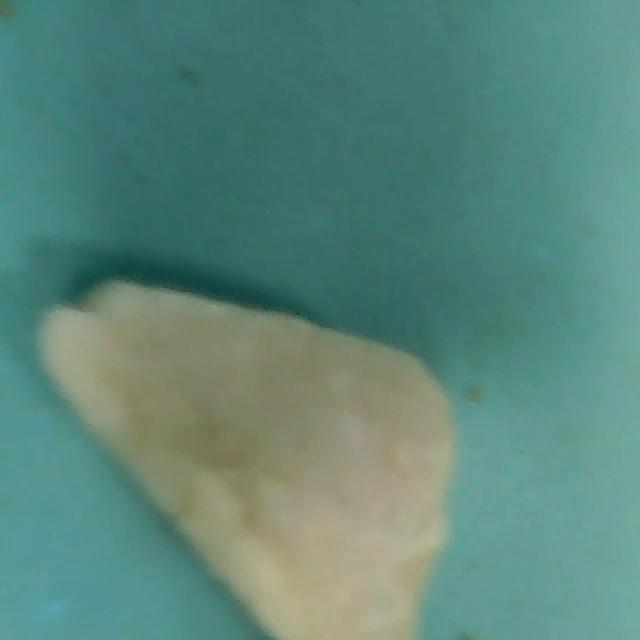rock: (34, 259, 463, 640)
